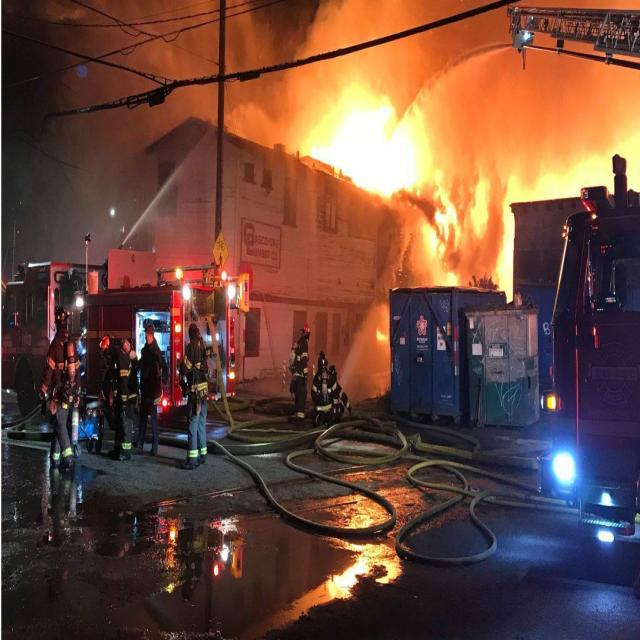Fire: (312, 98, 428, 200), (420, 168, 517, 288), (376, 324, 390, 346)
Smoke: (311, 0, 512, 98), (90, 0, 220, 131), (429, 94, 640, 168), (224, 0, 313, 157), (510, 38, 640, 97)
